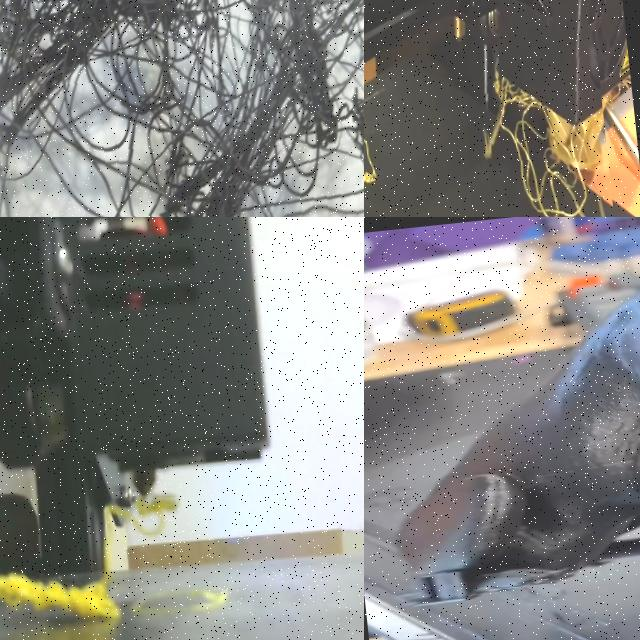spaghetti: (470, 46, 615, 217), (0, 534, 120, 618), (364, 61, 400, 217), (105, 497, 178, 535)
